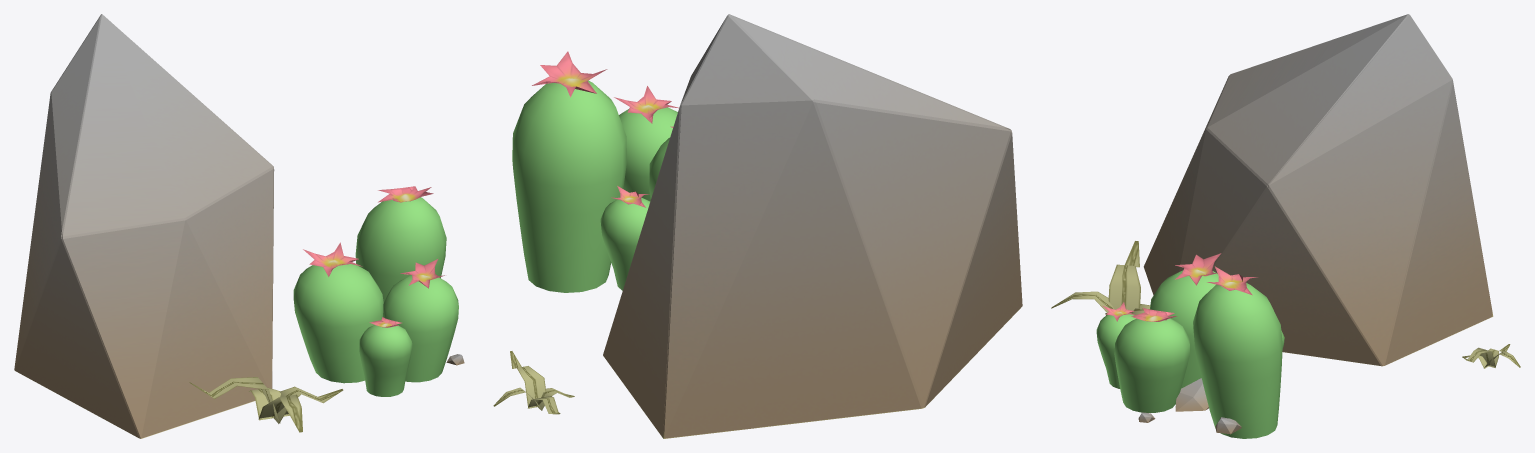
Rendered from Desert collection 2.fbx.
3 renders of one model, left to right at view 1: azimuth 30°, elevation 25°; view 2: azimuth 150°, elevation 25°; view 3: azimuth 270°, elevation 25°, orthographic. The views are drawn at different scales.
Visible parts, largest first — view 1: Desert collection 2; view 2: Desert collection 2; view 3: Desert collection 2.
Boxes of the visible parts, x1,y1,x2,y2 form: Desert collection 2: (14,14,464,438); Desert collection 2: (493,14,1022,438); Desert collection 2: (1051,14,1520,438).
Bounding box in the file's own units: 28.07 × 22.2 × 30.34.
